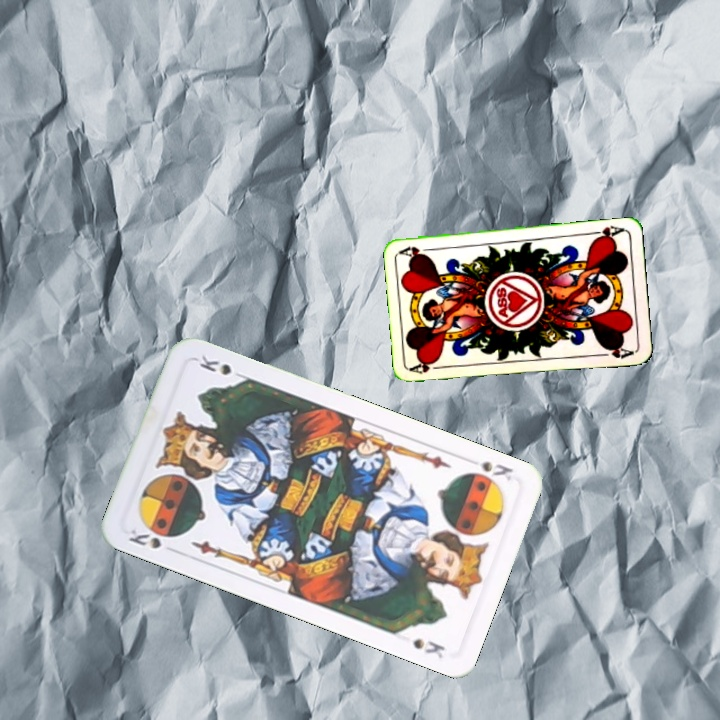HA: (586, 222, 626, 243), (408, 357, 448, 377)
SK: (462, 457, 516, 488), (124, 525, 164, 552)
